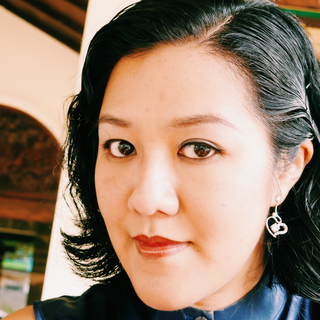eye: (176, 136, 224, 164), (101, 135, 138, 162)
